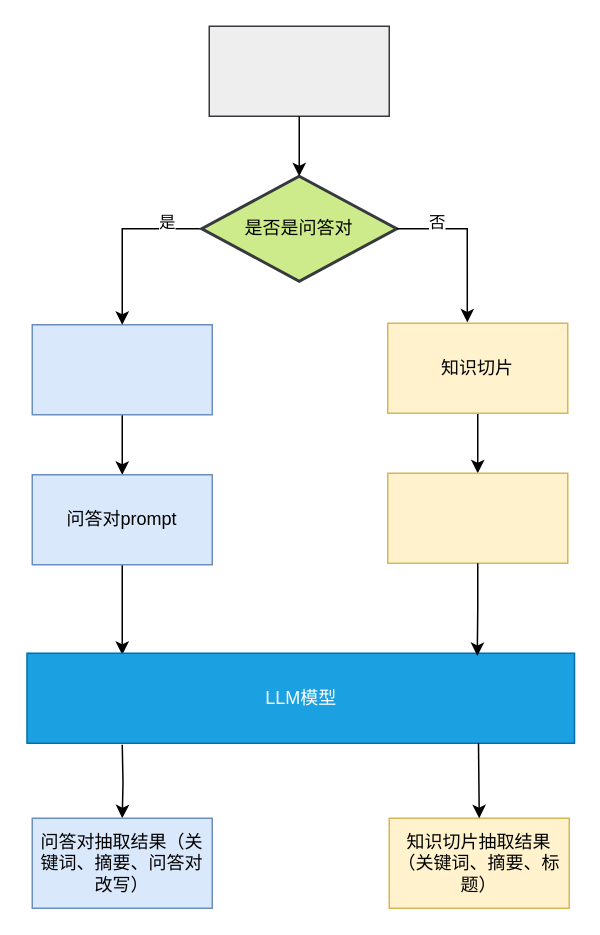
The diagram is 600 pixels wide and 935 high, and some of its shapes have lost their labels. The shapes that lost their labels are listed below. From the top down, each one's centre as x and y in pixels, then its label:
[298,70]: 切片
[121,369]: 问答对
[477,517]: 知识切片prompt
